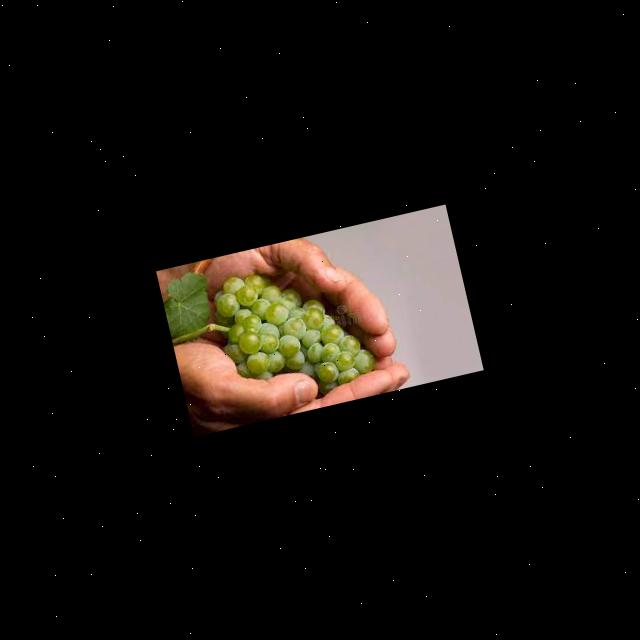grape: (198, 249, 380, 417)
